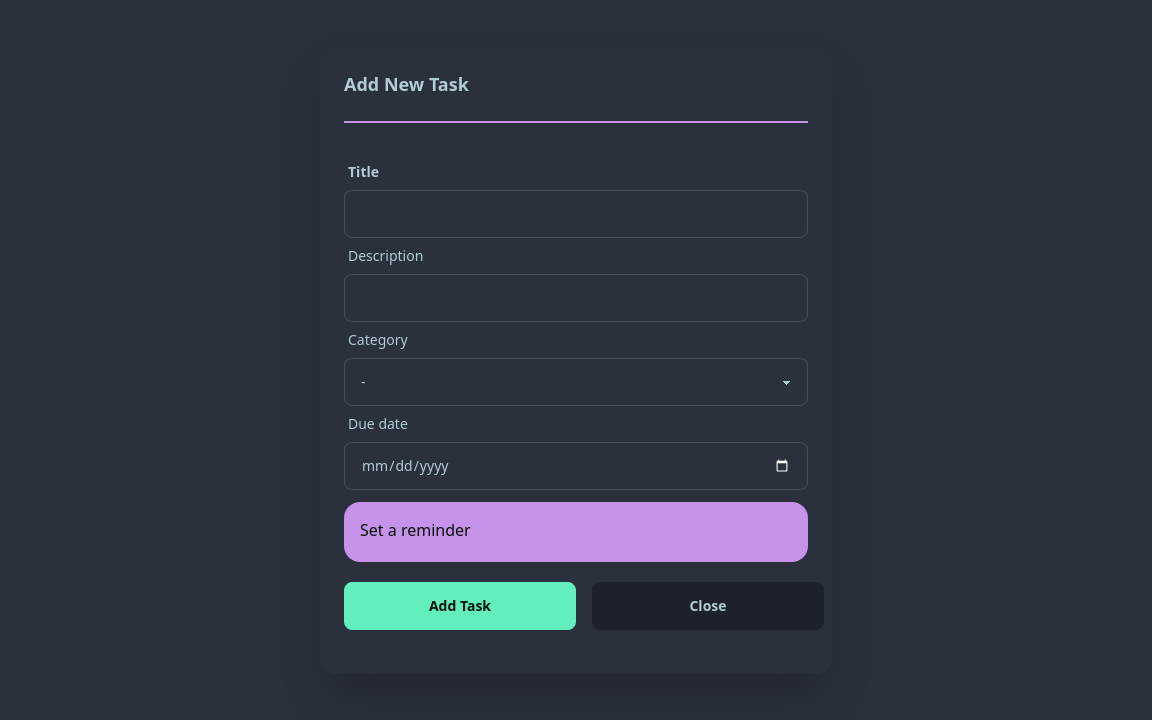
it: Test task form component › should show validation errors if required fields are missing
Click the button with test id "submitButton": (460,606) [344,582,576,630]
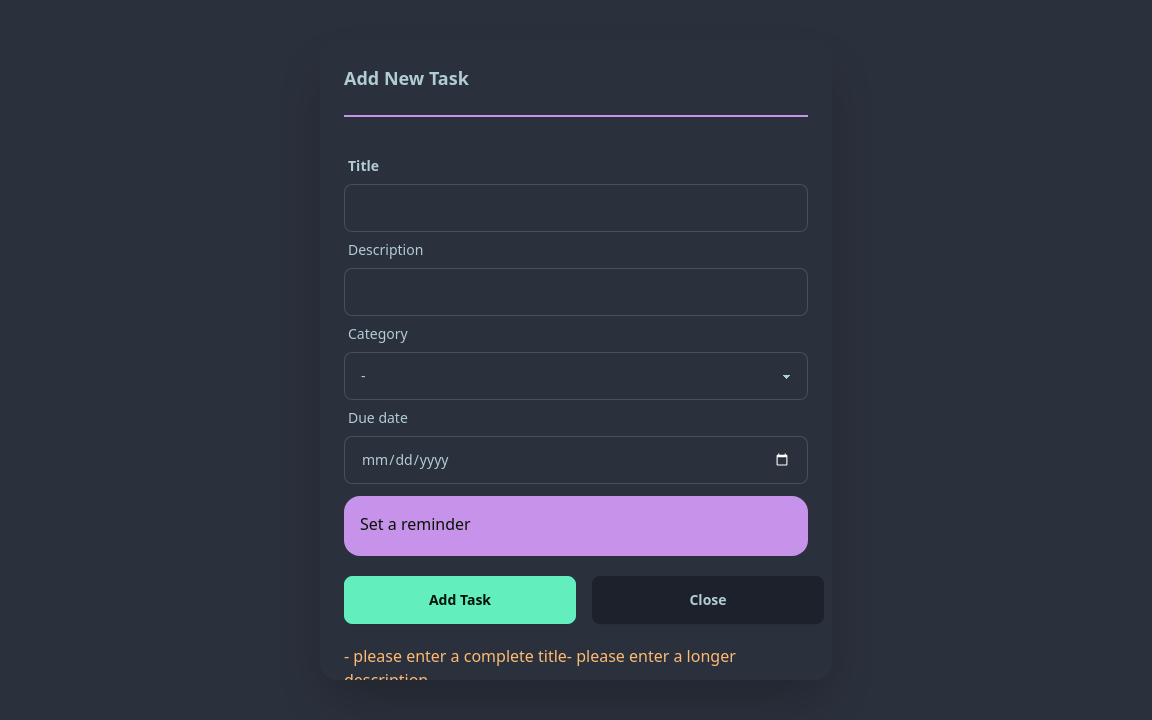
Expected: the element with test id "errorsSection" is shown, [344,645,736,680]
